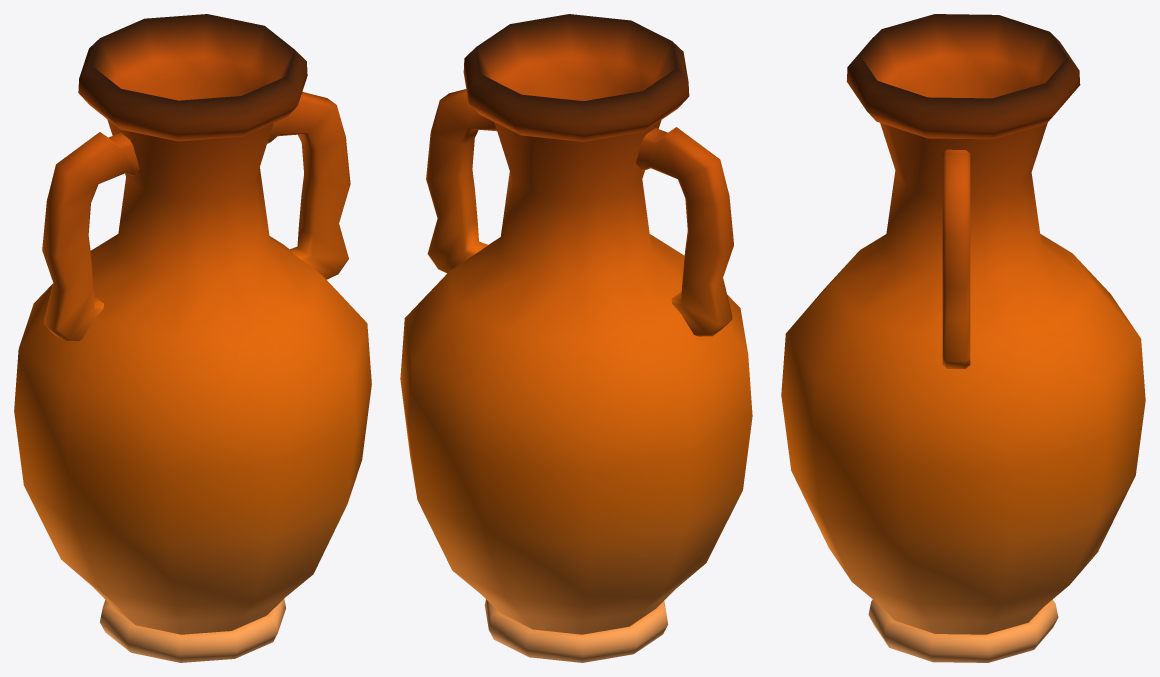
The model's file is Vase.fbx.
3 renders of one model, left to right at view 1: azimuth 30°, elevation 25°; view 2: azimuth 150°, elevation 25°; view 3: azimuth 270°, elevation 25°, orthographic.
Parts seen in each view (by area): view 1: Vase_low; view 2: Vase_low; view 3: Vase_low.
Part boxes in pixels (x1=…): Vase_low: x1=14, y1=14, x2=371, y2=662; Vase_low: x1=400, y1=14, x2=752, y2=662; Vase_low: x1=781, y1=14, x2=1145, y2=662.
Size of the model in its own units: 34.93 by 62.72 by 36.32.
